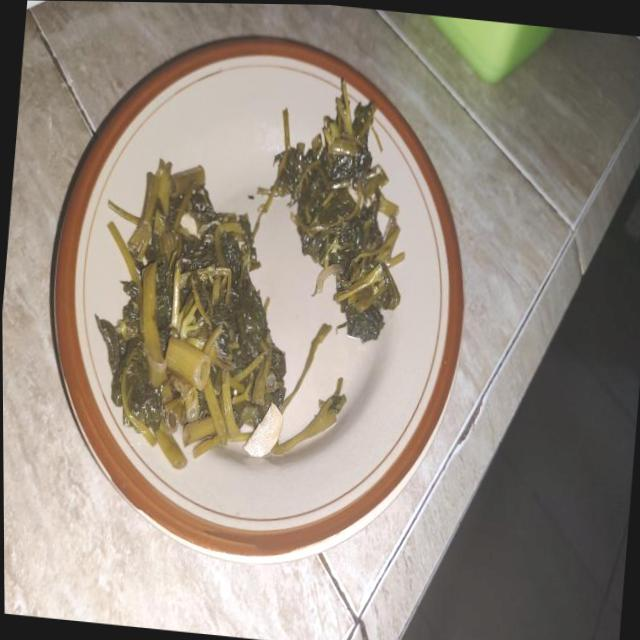tumis_kangkung: (98, 160, 288, 457), (279, 79, 404, 342)
